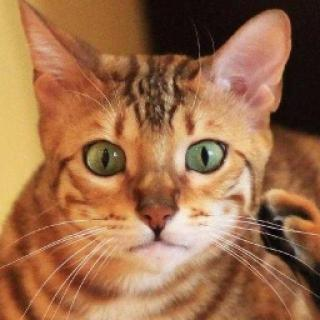cat: (20, 0, 285, 278)
nose: (130, 172, 186, 238)
